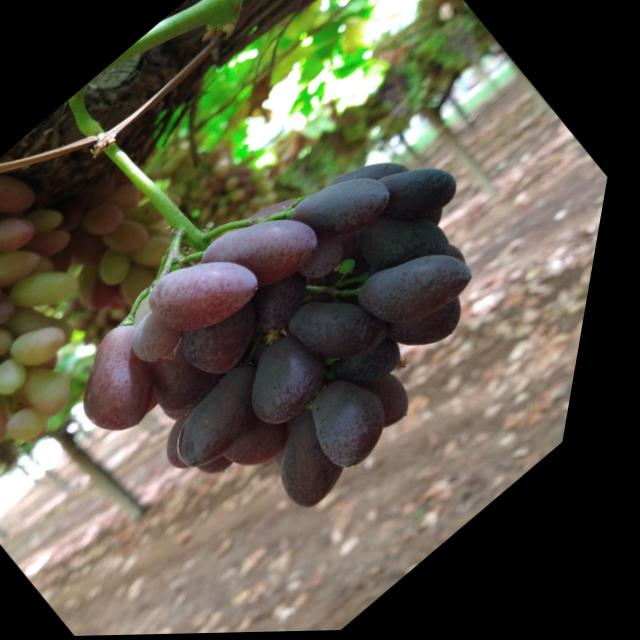grapes: (60, 314, 210, 449), (197, 187, 343, 318), (355, 224, 497, 351), (144, 231, 283, 356), (168, 357, 306, 480), (287, 270, 416, 387), (347, 187, 473, 300), (261, 404, 386, 517), (301, 367, 425, 480), (287, 153, 412, 265), (235, 325, 359, 437), (175, 284, 294, 391), (367, 142, 478, 242), (141, 327, 252, 427), (385, 277, 491, 370), (327, 138, 424, 226), (242, 259, 337, 343), (227, 402, 319, 484), (336, 322, 427, 404), (308, 224, 398, 305), (10, 251, 98, 329), (22, 353, 101, 425), (128, 304, 206, 373), (0, 225, 60, 314), (362, 366, 439, 435), (164, 408, 240, 477), (14, 312, 88, 378), (234, 184, 308, 249), (62, 215, 131, 278), (0, 153, 55, 228), (299, 231, 366, 290), (129, 181, 196, 240), (41, 184, 105, 242), (23, 214, 88, 271), (0, 201, 53, 270), (70, 257, 133, 313), (131, 224, 194, 280), (79, 192, 142, 248), (104, 210, 167, 266), (85, 261, 145, 315), (13, 398, 72, 451), (116, 256, 175, 309), (76, 164, 134, 216), (95, 240, 152, 292), (0, 300, 36, 380), (0, 351, 51, 401), (25, 197, 78, 244), (0, 395, 40, 452), (0, 355, 32, 424), (255, 326, 302, 369), (112, 177, 158, 219), (47, 243, 93, 284), (279, 430, 322, 469), (212, 448, 253, 485), (109, 280, 148, 315), (0, 292, 33, 333), (136, 293, 174, 327), (0, 274, 21, 326), (425, 203, 459, 234), (449, 242, 482, 273), (43, 349, 77, 379), (99, 304, 131, 333), (0, 184, 13, 253), (255, 175, 286, 202), (149, 388, 180, 414), (261, 189, 291, 215), (39, 422, 68, 448), (175, 400, 203, 425), (210, 174, 237, 199), (118, 303, 144, 327), (216, 160, 242, 184), (201, 203, 228, 226), (232, 184, 258, 207), (0, 177, 9, 231), (178, 180, 201, 200), (200, 175, 222, 195), (229, 175, 250, 195), (229, 212, 250, 231), (221, 194, 242, 212), (240, 164, 261, 182), (243, 186, 264, 204), (232, 199, 253, 217), (253, 196, 273, 214), (277, 454, 296, 471), (205, 188, 224, 205), (213, 194, 231, 210), (243, 201, 259, 215), (242, 178, 256, 190), (0, 425, 2, 448)
